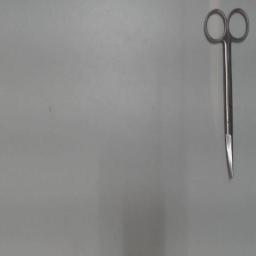Curved Mayo Scissors: (200, 4, 252, 184)
